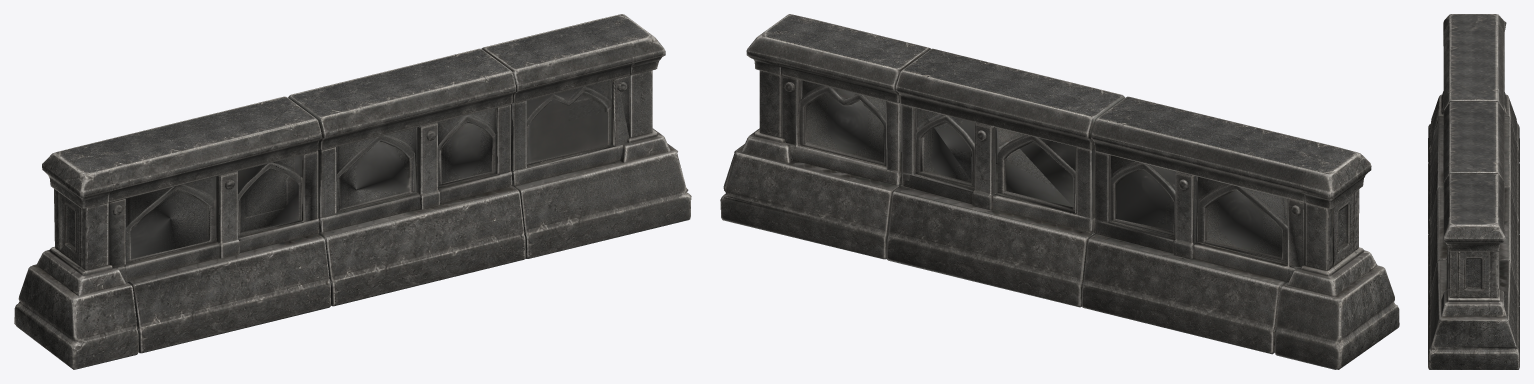
File: Meshy_AI_Parapet_Module_Low_Po_1030020052_texture.glb
3 renders of one model, left to right at view 1: azimuth 30°, elevation 25°; view 2: azimuth 150°, elevation 25°; view 3: azimuth 270°, elevation 25°, orthographic. The views are drawn at different scales.
Size of the model in its own units: 0.9561 by 0.2642 by 0.1606.
Materials: 1 (1 with a texture image).
